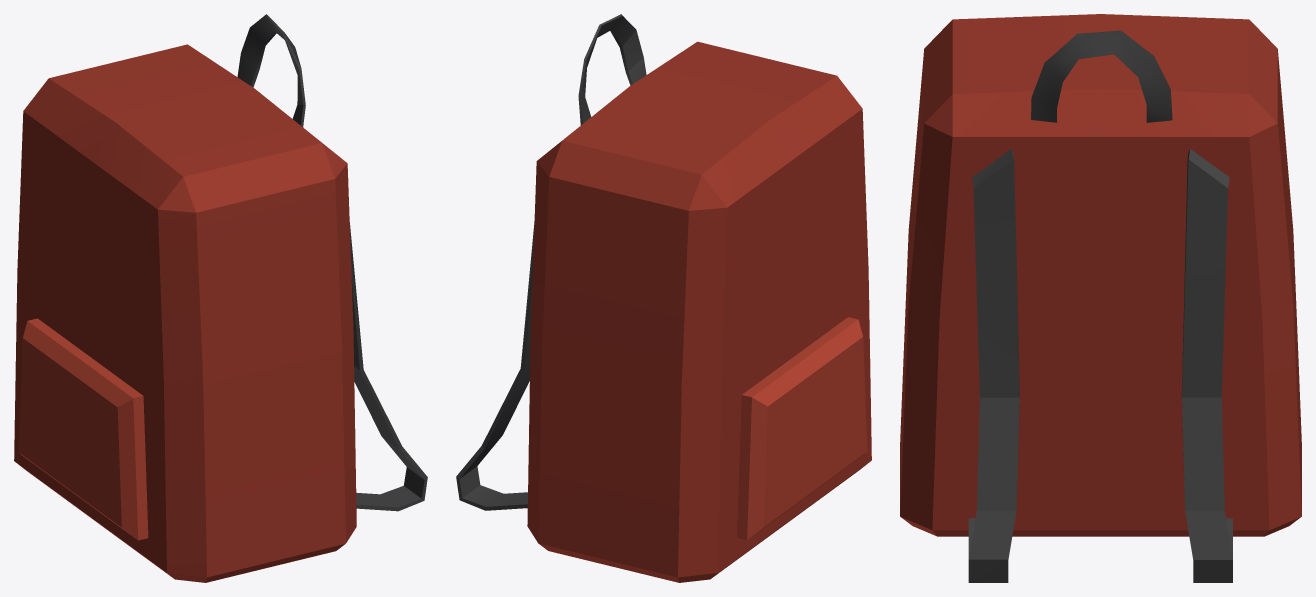
The model's file is Sac_A_Dos_Rouge.fbx.
3 views of the same model, side by side, from view 1: azimuth 30°, elevation 25°; view 2: azimuth 150°, elevation 25°; view 3: azimuth 270°, elevation 25° (orthographic). The views are drawn at different scales.
Visible parts, largest first — view 1: Sac_A_Dos_Rouge; view 2: Sac_A_Dos_Rouge; view 3: Sac_A_Dos_Rouge.
Part boxes in pixels (x1,y1,x2,y2): Sac_A_Dos_Rouge: (14, 14, 427, 582); Sac_A_Dos_Rouge: (456, 14, 871, 582); Sac_A_Dos_Rouge: (900, 14, 1301, 582).
Bounding box in the file's own units: 31.79 × 47.12 × 33.7.
Materials: 1 (1 with a texture image).
